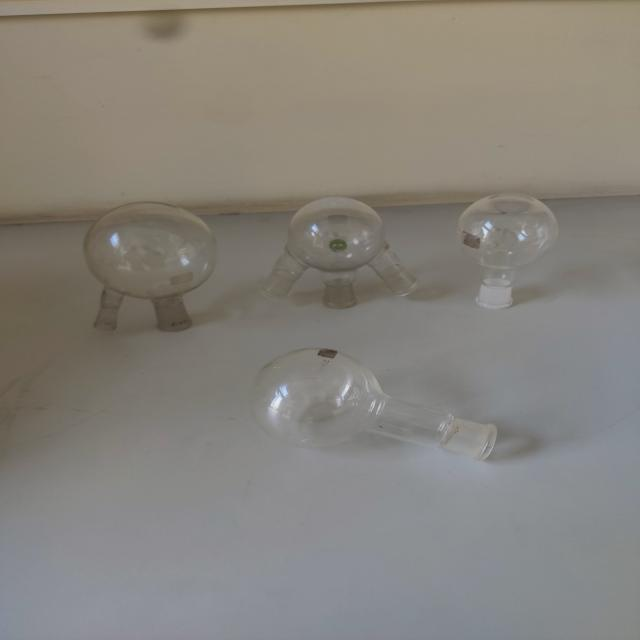Round_Bottom_Flask_Borosilicate_Glass_1_Neck: (233, 336, 527, 491), (444, 173, 579, 326)
Round_Bottom_Flask_Borosilicate_Glass_2_Neck: (75, 195, 224, 342)
Round_Bottom_Flask_Borosilicate_Glass_3_Neck: (239, 178, 437, 331)
